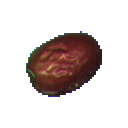gd: (20, 9, 108, 106)
